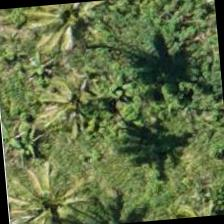Kelapa_Sawit: (3, 146, 94, 223), (10, 0, 104, 58)
